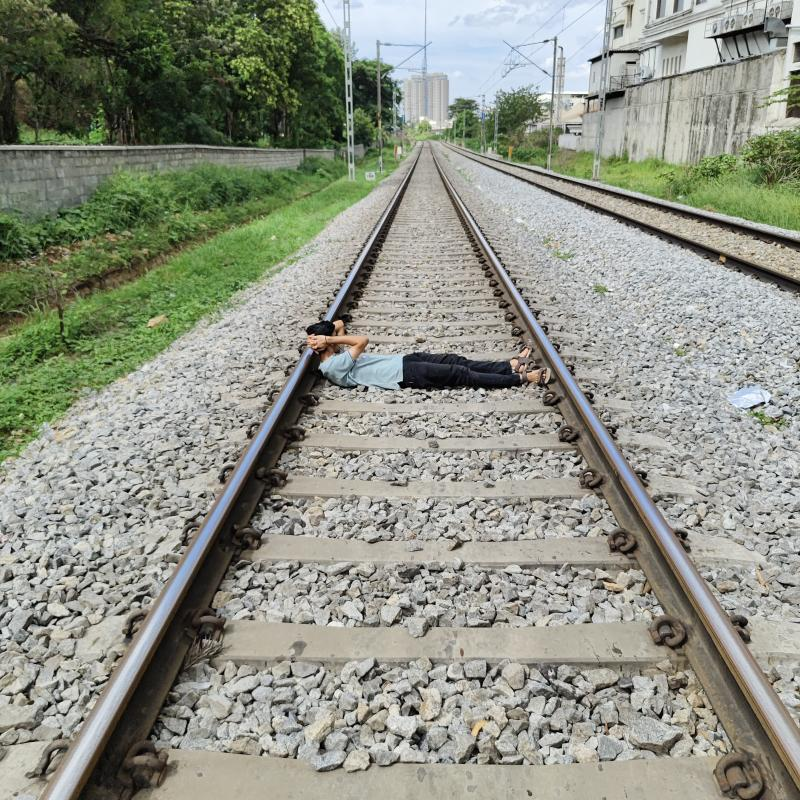sleeping: (296, 312, 561, 401)
